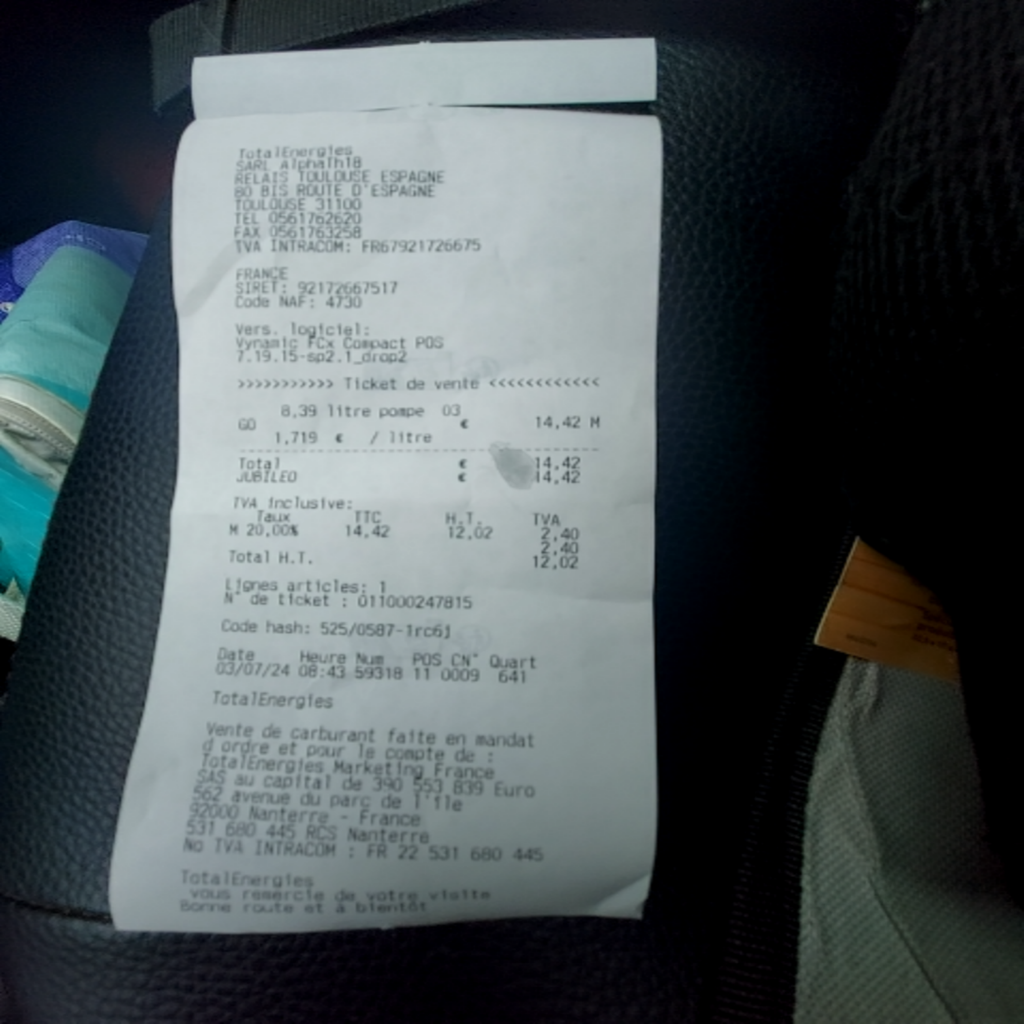recipt: (105, 109, 659, 938)
